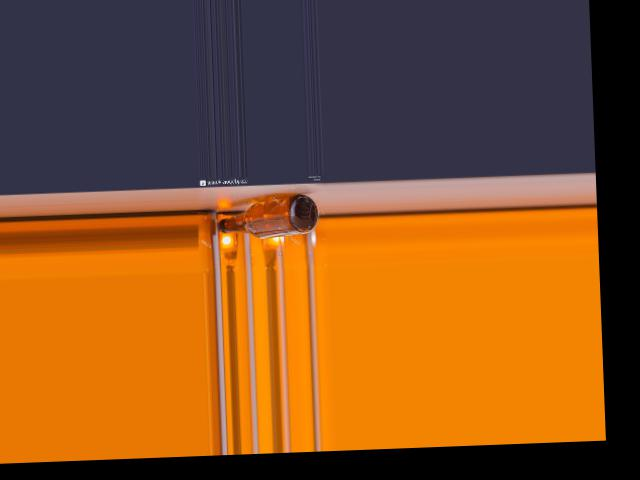beer: (219, 191, 320, 240)
